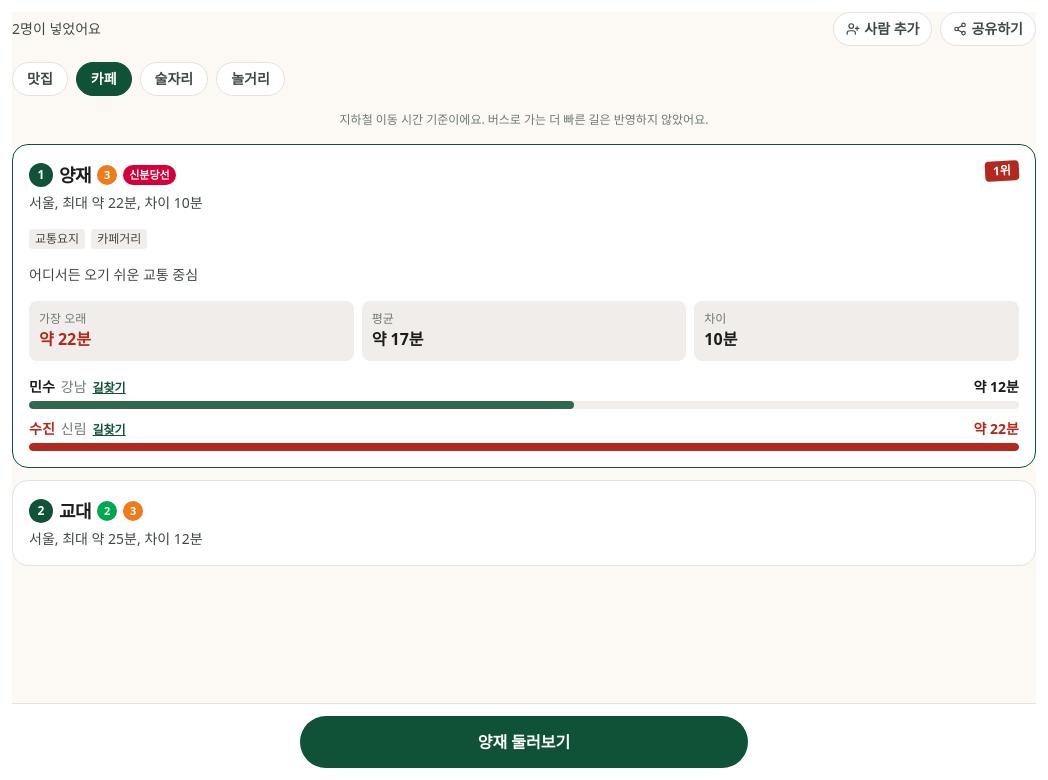
it: 아래 둘러보기 버튼은 펼친 카드의 동네 이름과 주소를 따라간다 (필터 유지)
Click the button "2 교대 2 3 서울, 최대 약 25분, 차이 12분". click: coordinates (75, 511)
box: 29,497 -> 1019,549
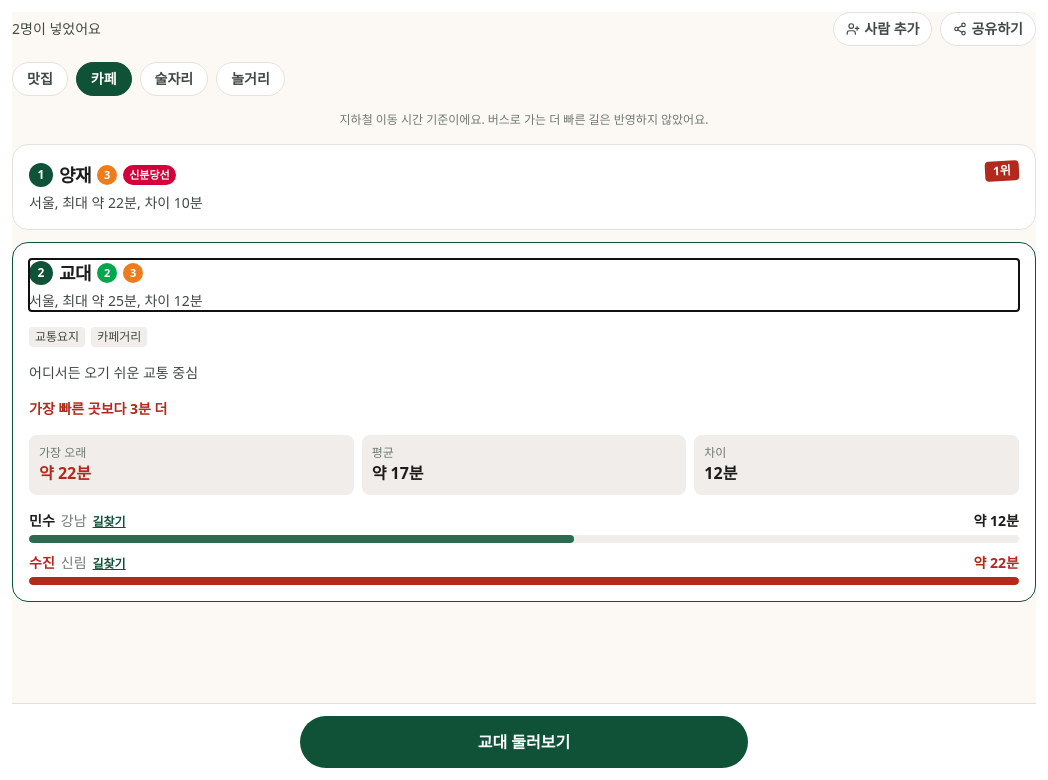
Expected: the link "양재 둘러보기" is gone
